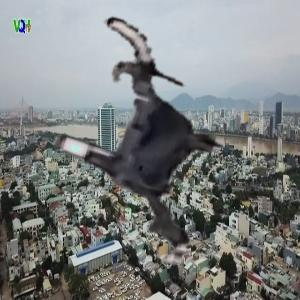drone: (24, 21, 271, 268)
